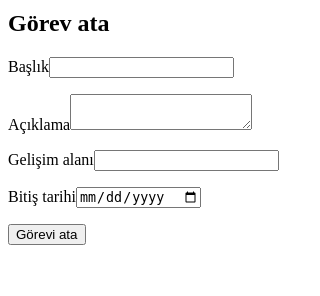
Scenario: AssignTaskForm › sends the task to the API and reports the new task (FR-M4-01)
In the field labelled "Başlık": coordinates (141, 67) left=49, top=57, right=234, bottom=78, type "Draw a family picture"
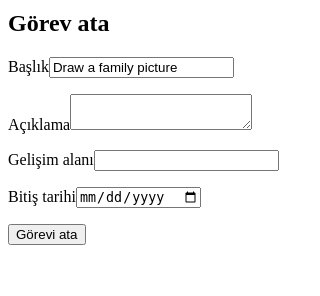
In the text box labelled "Açıklama": coordinates (161, 112) left=70, top=94, right=252, bottom=130, type "Use at least three colours."
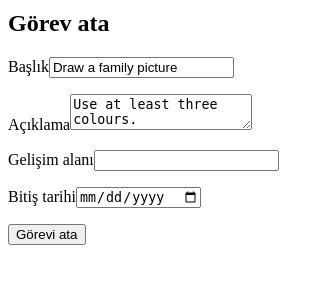
In the field labelled "Gelişim alanı": coordinates (186, 160) left=94, top=150, right=279, bottom=171, type "Motor"
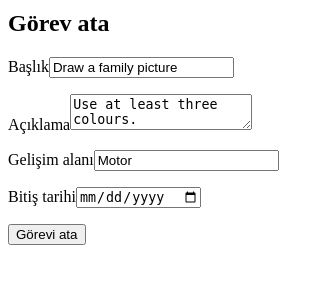
In the date field labelled "Bitiş tarihi": coordinates (139, 197) left=76, top=187, right=201, bottom=208, type "2026-11-27"
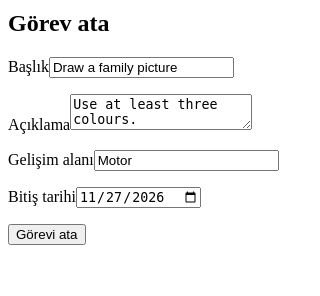
Click the button "Görevi ata": coordinates (47, 235) left=8, top=224, right=86, bottom=245
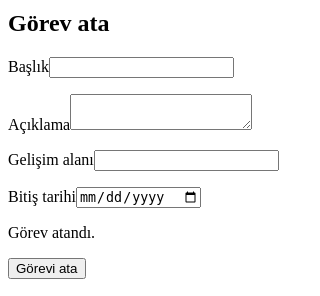
Now the message reads "Görev atandı.", box left=8, top=224, right=95, bottom=241
Now the field labelled "Başlık" is empty, box left=49, top=57, right=234, bottom=78
